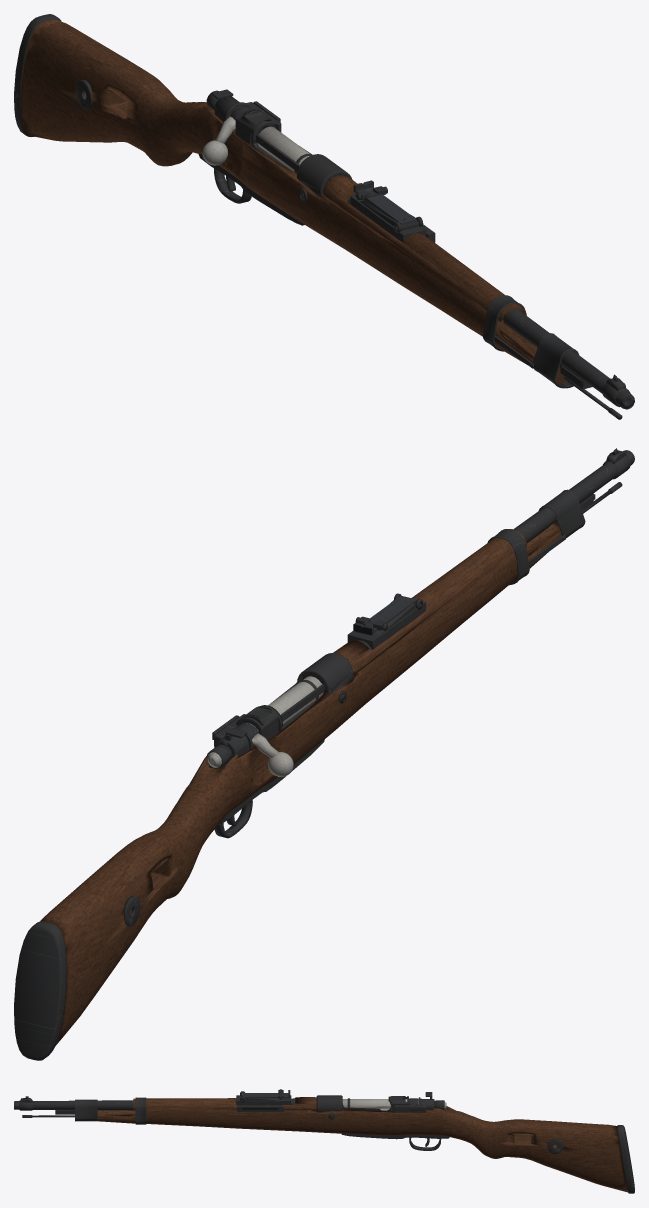
File: SM_Kar98k_LOD2.fbx
3 views of the same model, one above another, from view 1: azimuth 30°, elevation 25°; view 2: azimuth 150°, elevation 25°; view 3: azimuth 270°, elevation 25° (orthographic). The views are drawn at different scales.
Parts seen in each view (by area): view 1: SM_Kar98k_LOD2; view 2: SM_Kar98k_LOD2; view 3: SM_Kar98k_LOD2.
Boxes of the visible parts, bbox=[...] form: SM_Kar98k_LOD2: bbox=[14, 14, 634, 419]; SM_Kar98k_LOD2: bbox=[14, 448, 634, 1060]; SM_Kar98k_LOD2: bbox=[14, 1089, 634, 1193].
Size of the model in its own units: 7.36 by 110 by 19.66.
